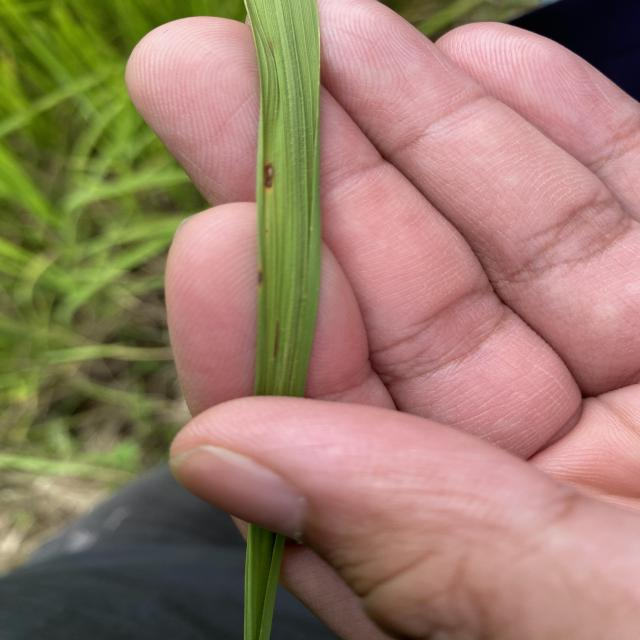Dom nau: (263, 162, 276, 190), (258, 269, 264, 285)
